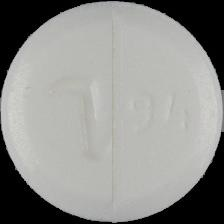66116-485: (0, 0, 224, 224)
